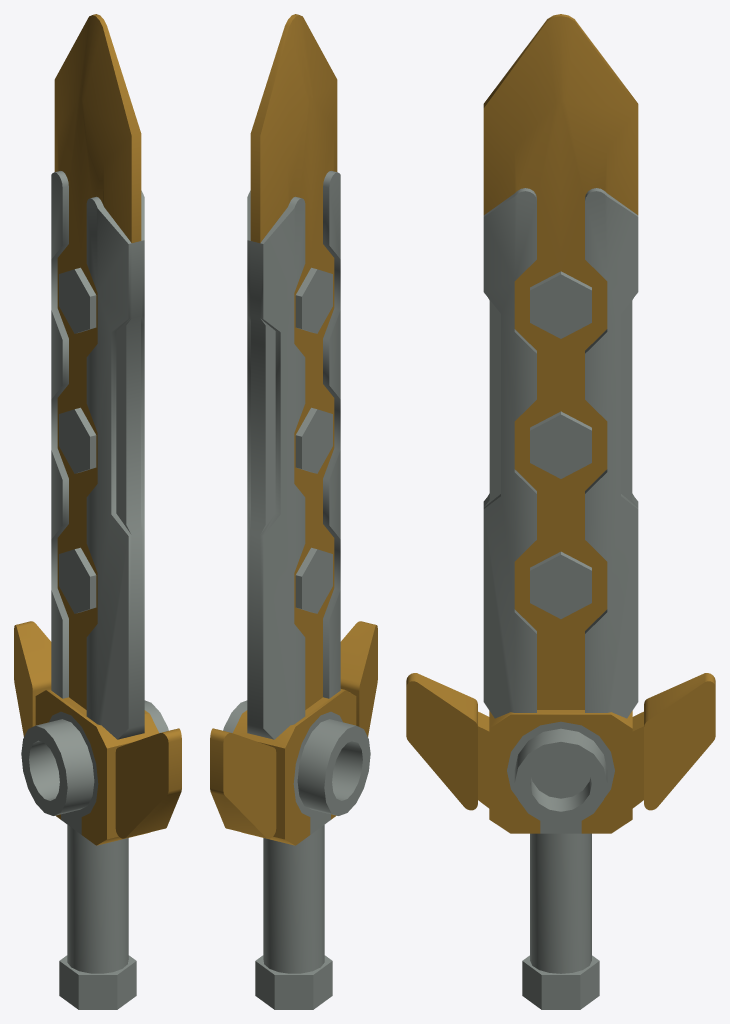
File: Sword.dae
The picture shows the model from 3 angles, left to right: view 1: azimuth 30°, elevation 25°; view 2: azimuth 150°, elevation 25°; view 3: azimuth 270°, elevation 25°; orthographic projection.
Bounding box in the file's own units: 16 × 40 × 140.
